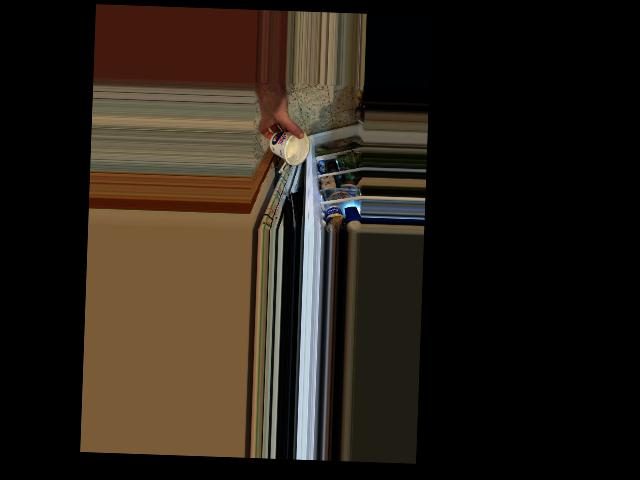cotage: (269, 129, 309, 162)
